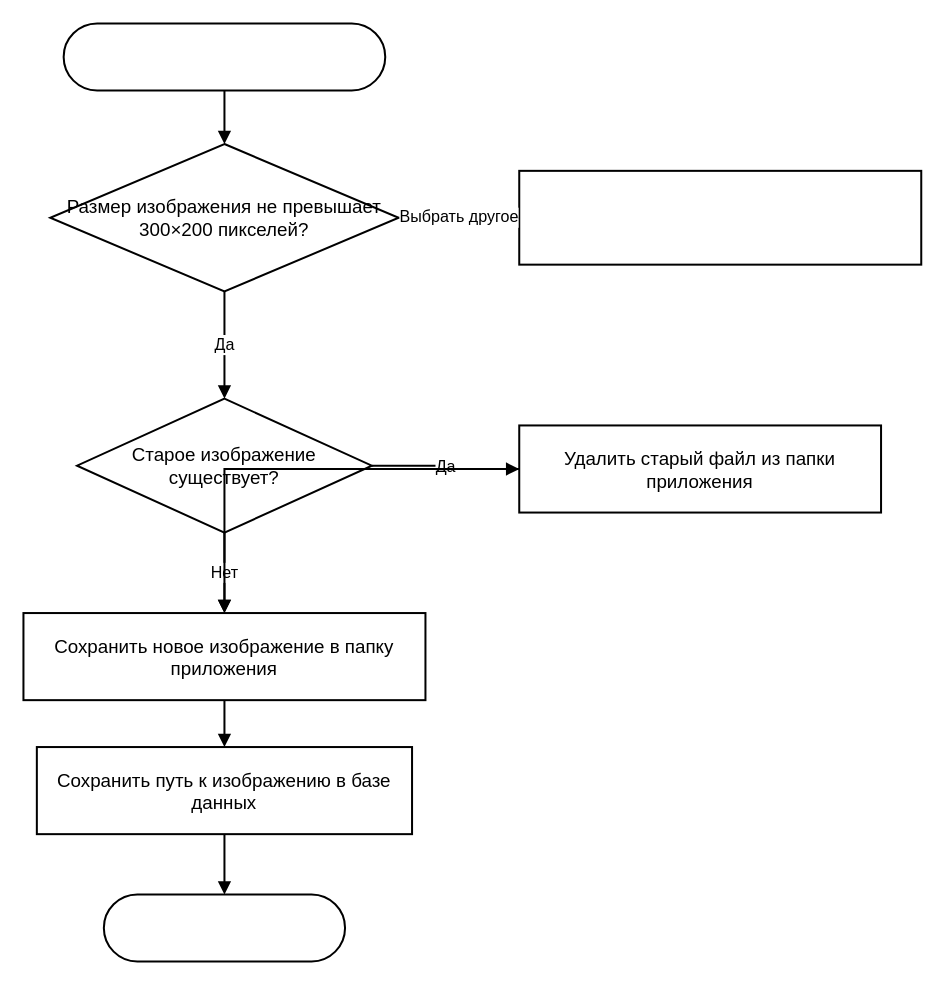
This 946x986 diagram has some shape labels left out. Here are the shapes that lost their labels. From the top down, the centre of each, then its label:
At (x=224, y=56): "Начало: пользователь выбрал фото".
At (x=720, y=217): "Показать ошибку и предложить выбрать другое изображение".
At (x=223, y=927): "Конец".
